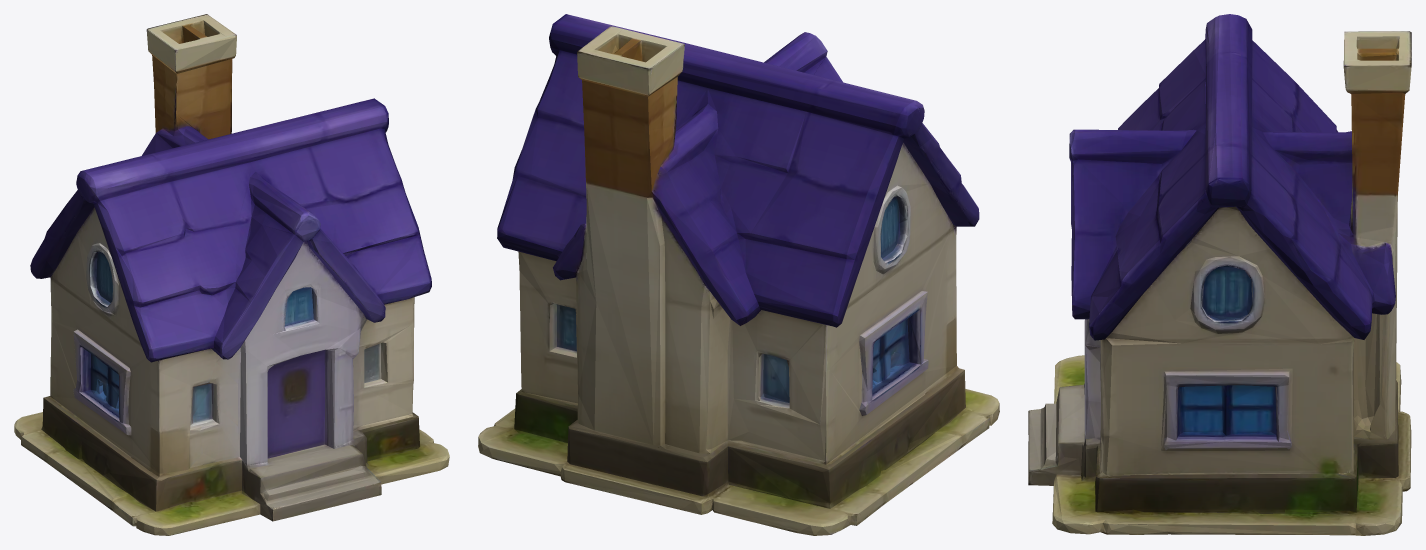
File: purple_roof_house.glb
3 renders of one model, left to right at view 1: azimuth 30°, elevation 25°; view 2: azimuth 150°, elevation 25°; view 3: azimuth 270°, elevation 25°, orthographic. The views are drawn at different scales.
Parts seen in each view (by area): view 1: geometry_0; view 2: geometry_0; view 3: geometry_0.
Boxes of the visible parts, x1,y1,x2,y2 form: geometry_0: (14,14,449,535); geometry_0: (478,14,999,535); geometry_0: (1028,14,1411,535).
Bounding box in the file's own units: 0.4215 × 0.4764 × 0.3967.
Materials: 1 (1 with a texture image).
